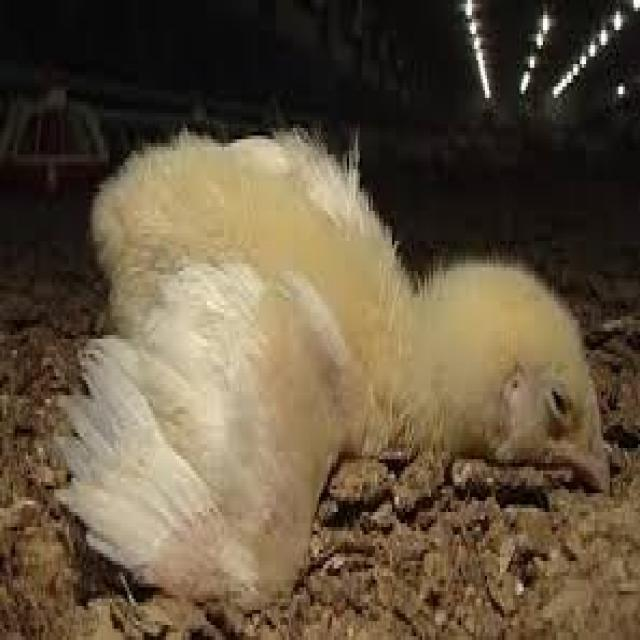Unhealthy: (46, 119, 616, 619)
